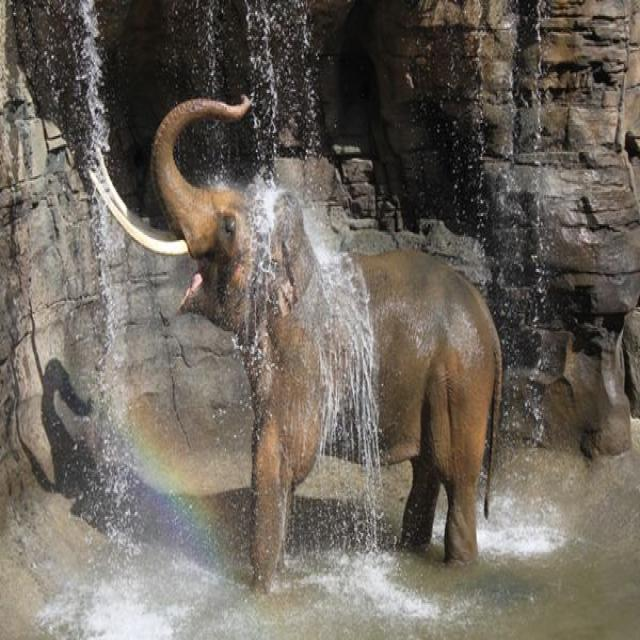Elephant: (140, 68, 510, 606)
